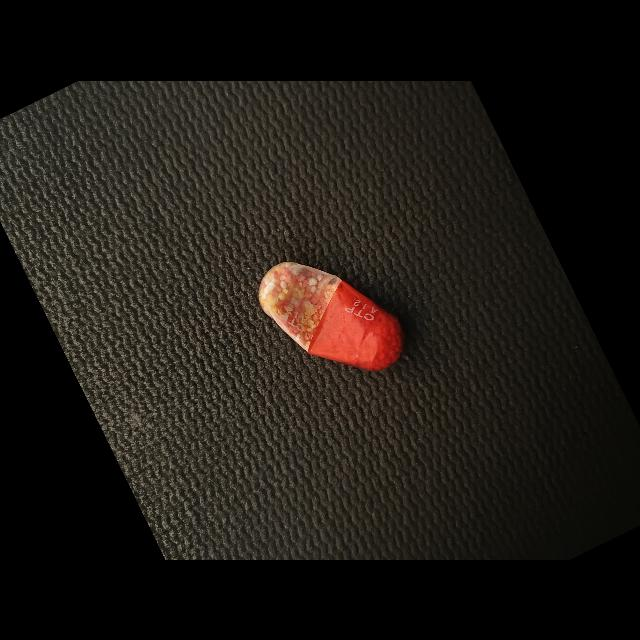Defective Capsule: (259, 261, 404, 371)
